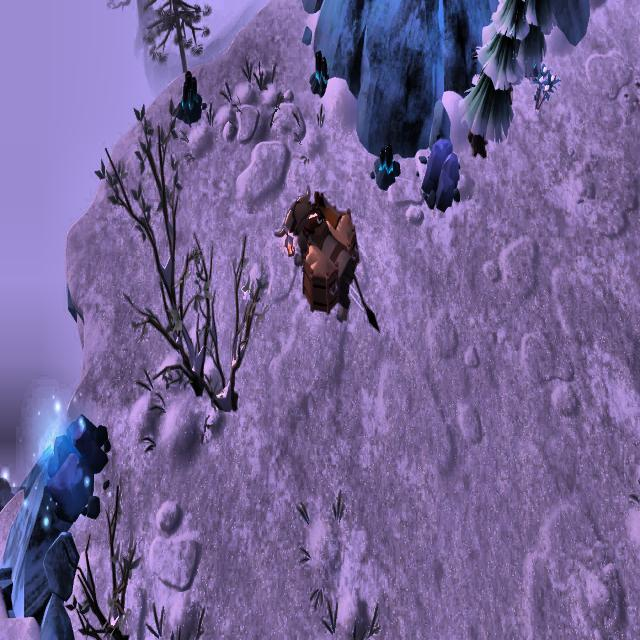fiber_t4: (527, 62, 558, 113)
ore_t4: (180, 68, 200, 115), (374, 142, 396, 175), (310, 46, 328, 86)
rock_t4: (46, 412, 108, 524), (418, 134, 459, 218)
